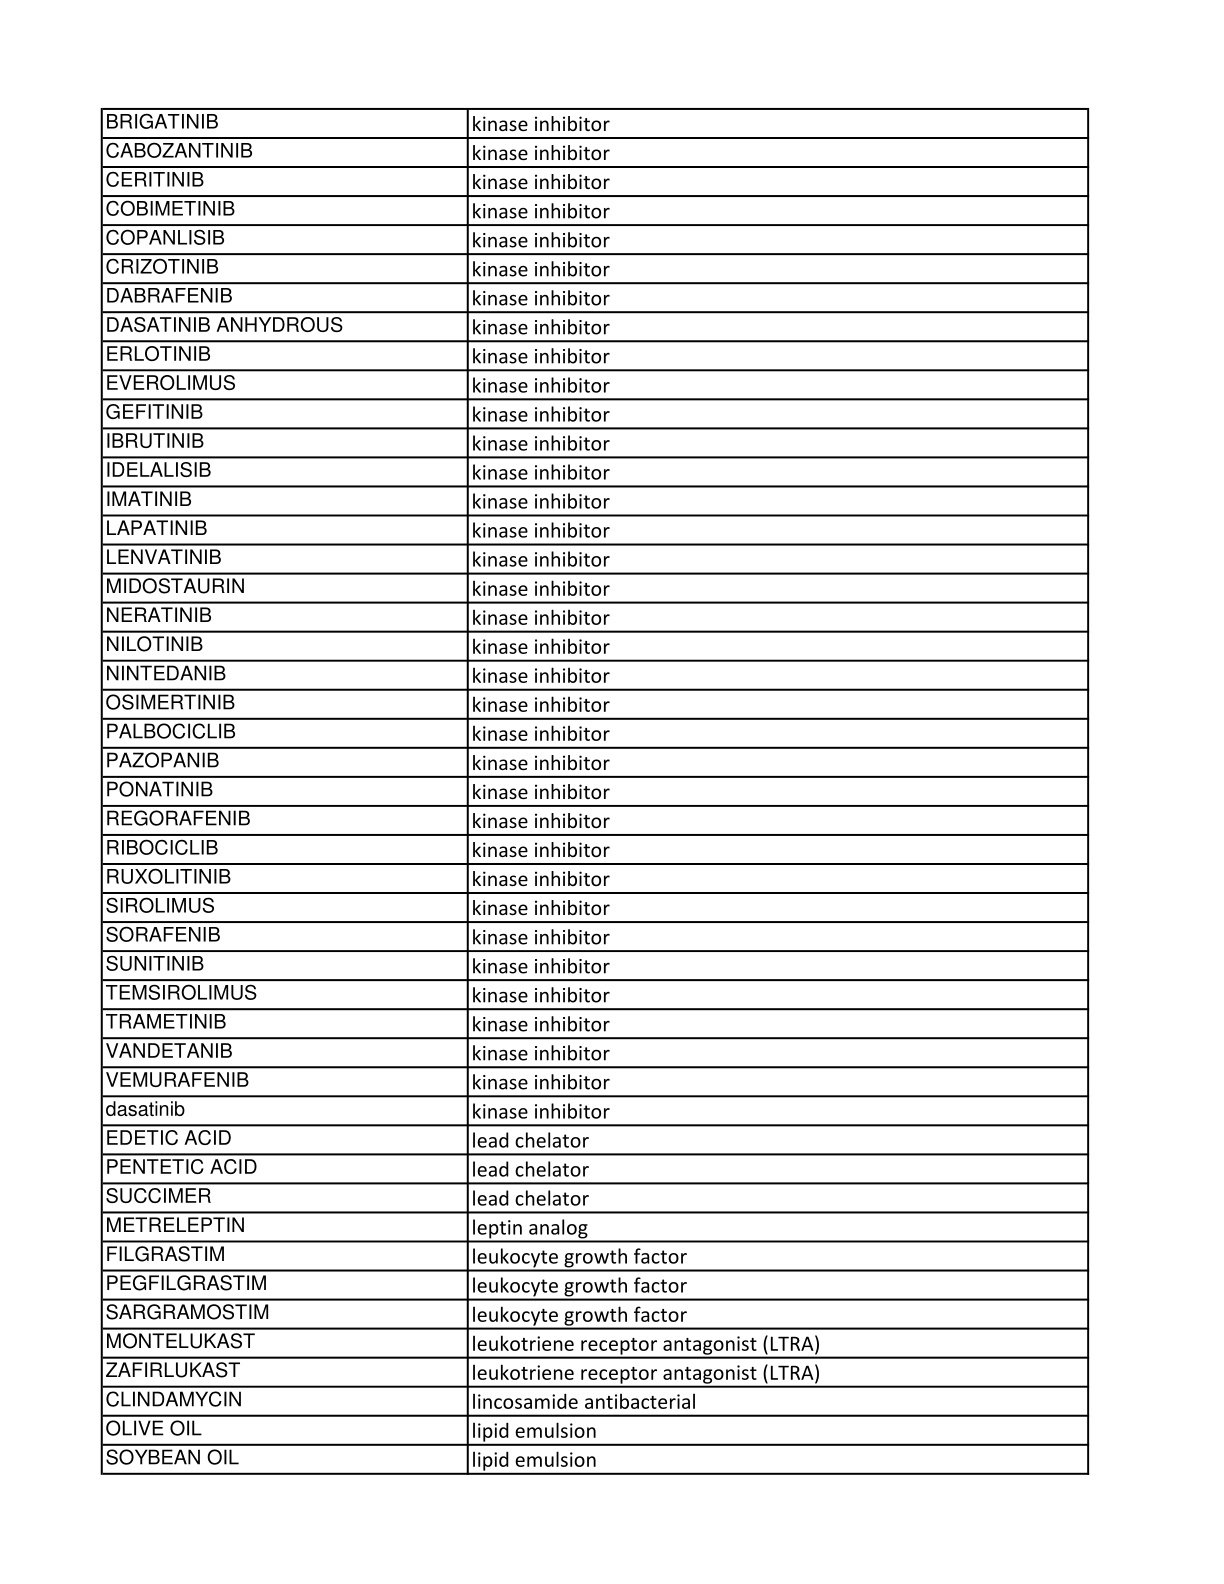full_lined: (100, 108, 1089, 1475)
